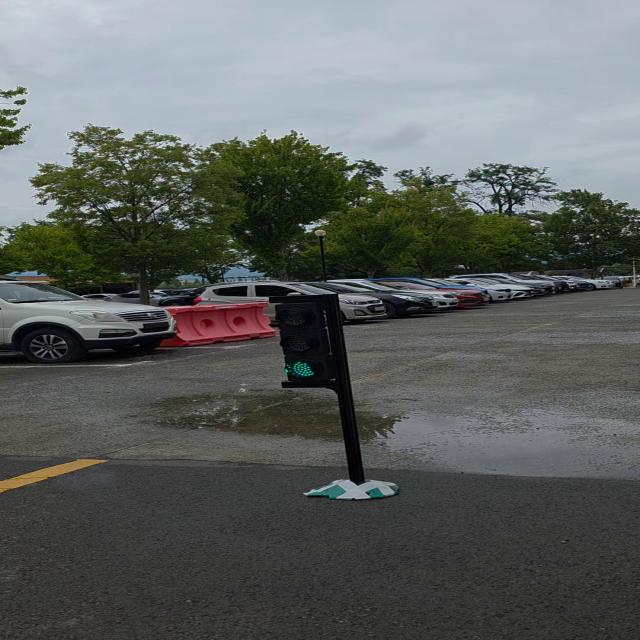green: (274, 295, 348, 387)
